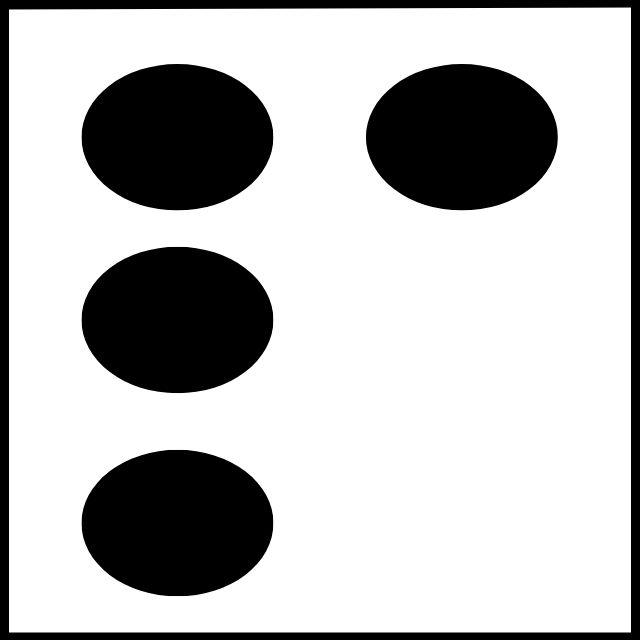one_cell_alphabet_para: (81, 62, 558, 596)
